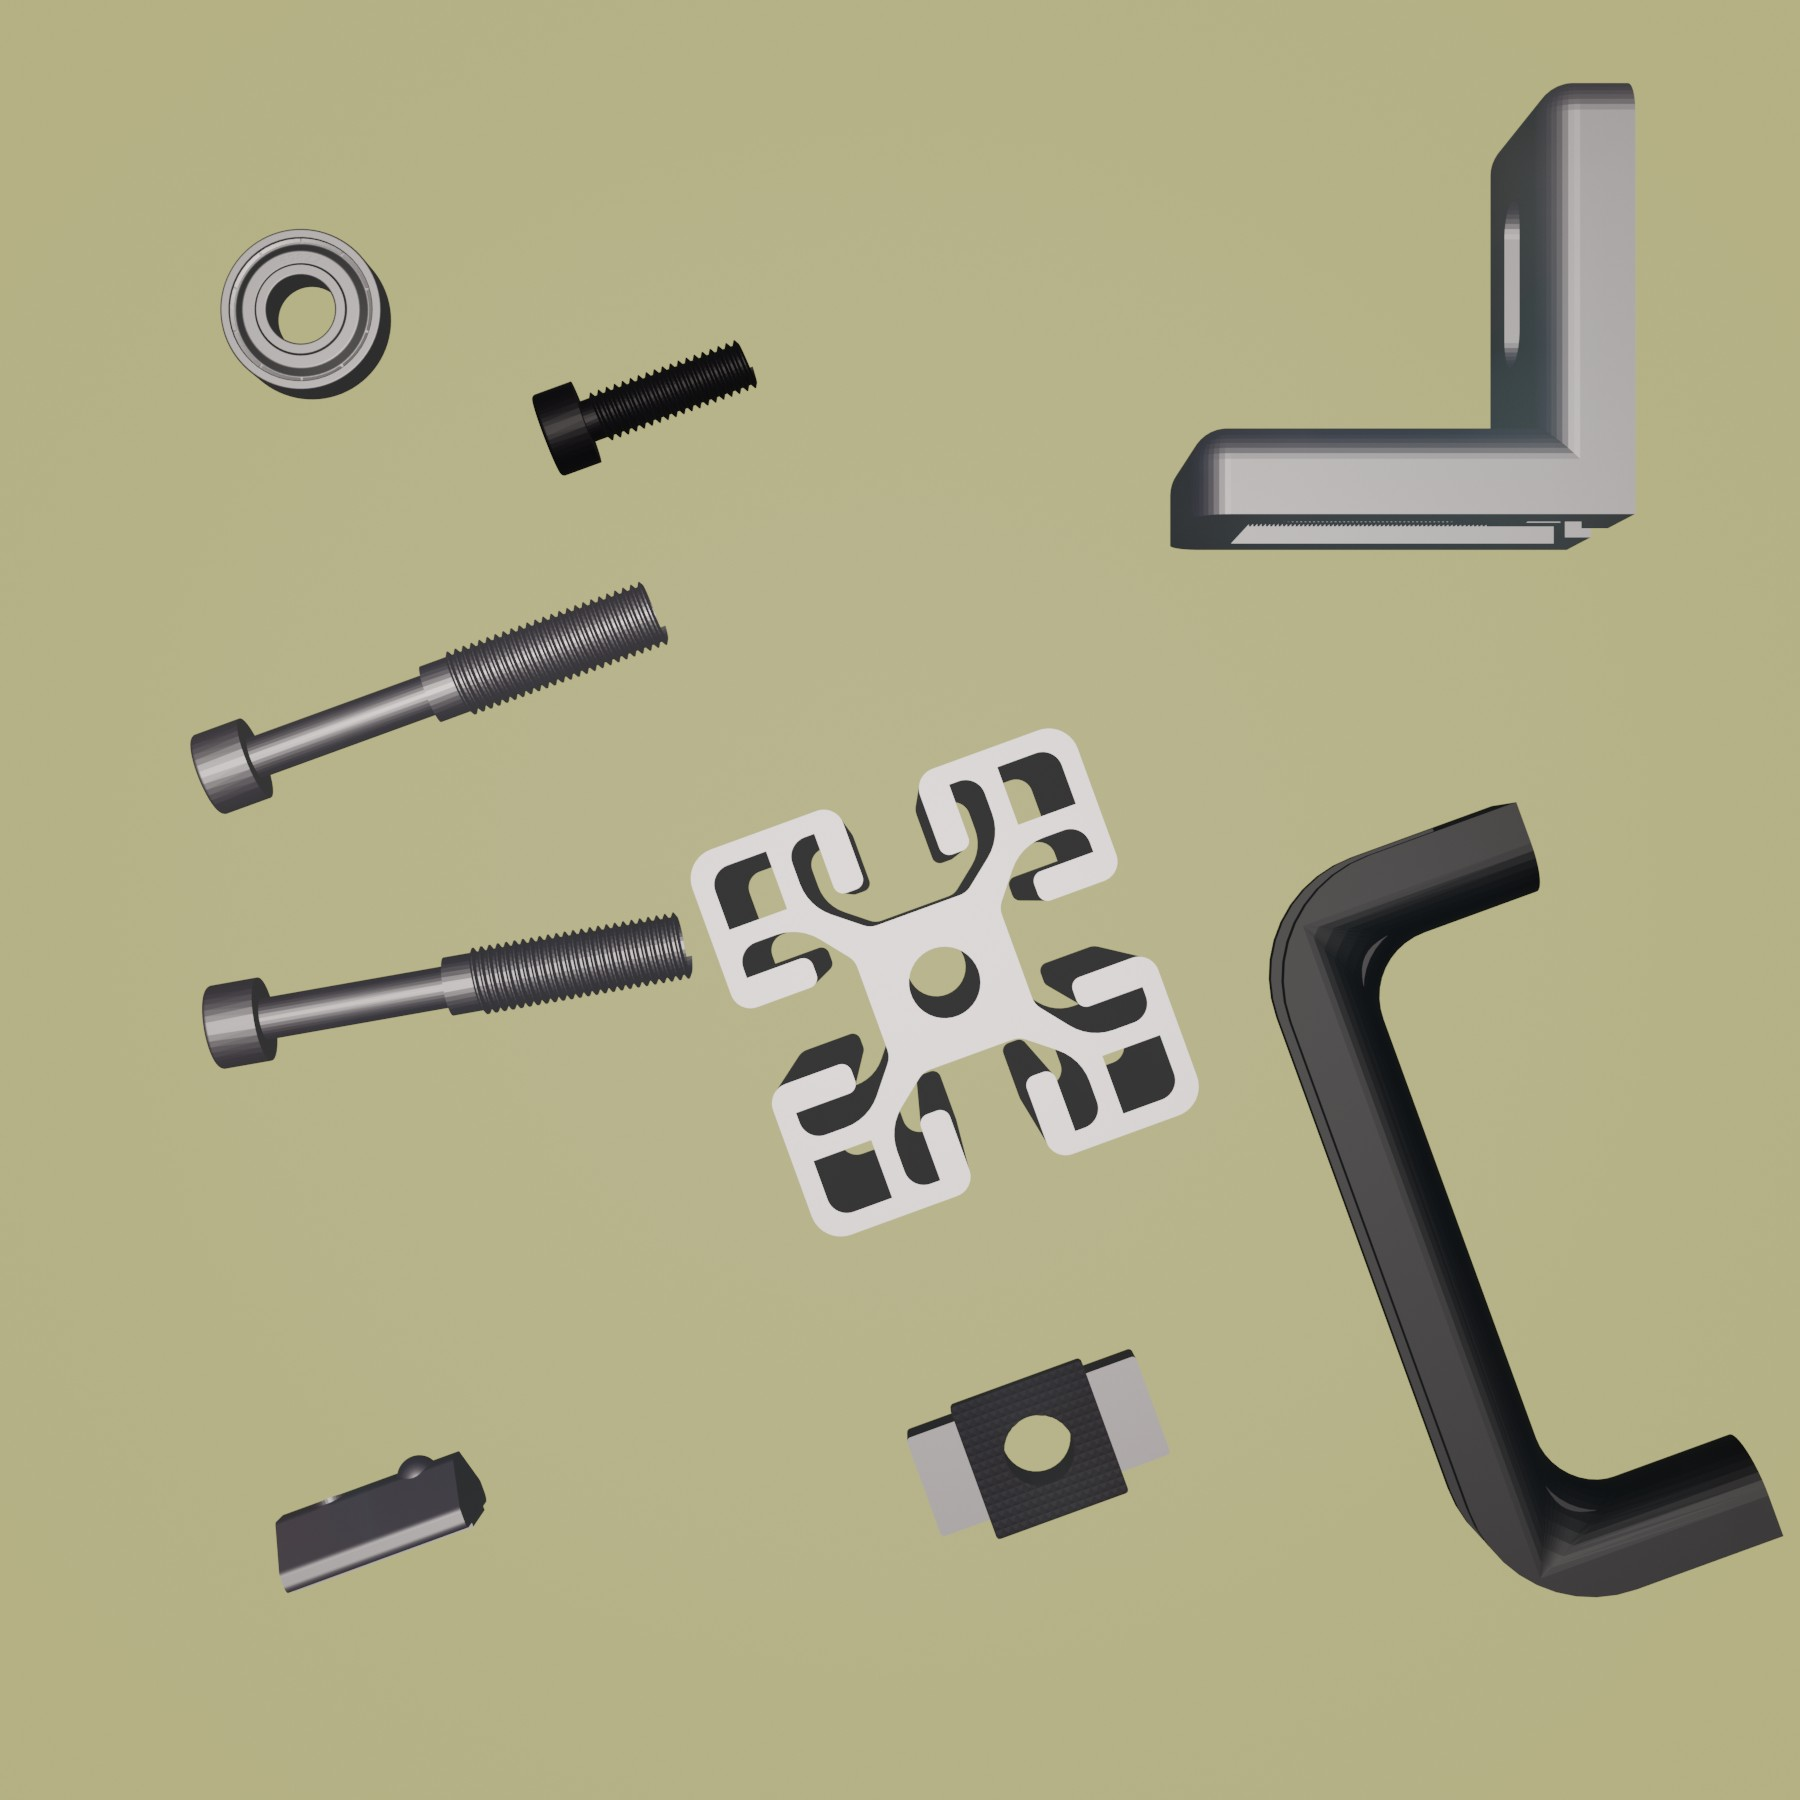Aluminium Extension: (687, 724, 1202, 1241)
Ball Bearing: (218, 227, 392, 401)
Multiwinkel: (1165, 77, 1643, 552)
Pull Handle: (1264, 801, 1785, 1601)
Shoulder Socket Head Cap Screw: (188, 580, 674, 814), (201, 907, 696, 1070)
Socket Head Cap Screw: (529, 336, 762, 476)
T Nut Square: (905, 1345, 1175, 1541)
T Spring Nut: (270, 1447, 490, 1596)
